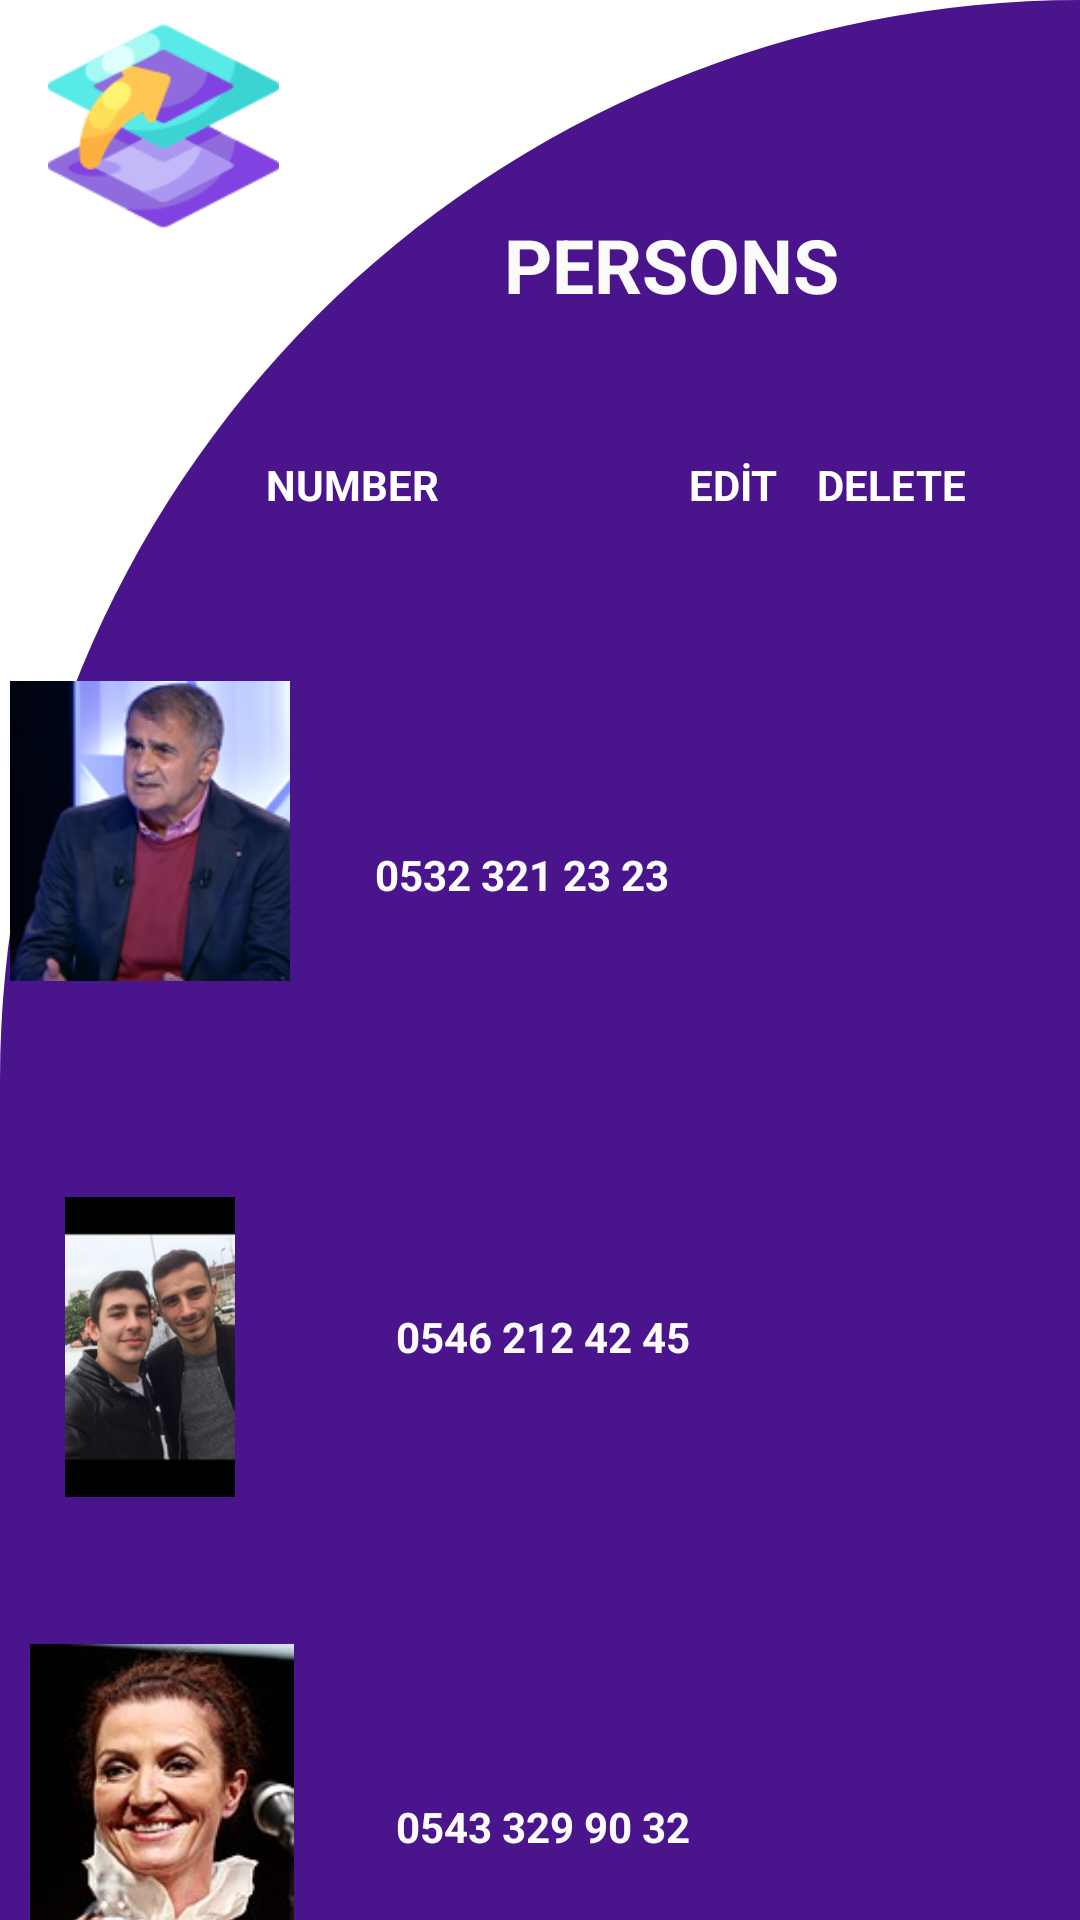

Screen size 1080 × 1920. Icon name, then its box in pixels as (x1, y1, x2, y2):
Haberler sayfasi image view: (0, 681, 290, 981)
Haberler sayfasi image view1: (65, 1197, 235, 1497)
Haberler sayfasi image vivew2: (30, 1644, 294, 1920)
